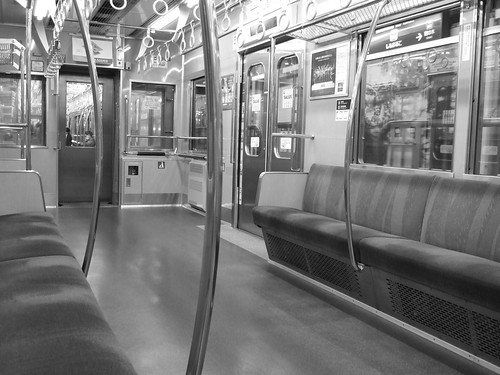bench: (260, 153, 500, 310)
door: (231, 28, 314, 245), (55, 63, 116, 206)
